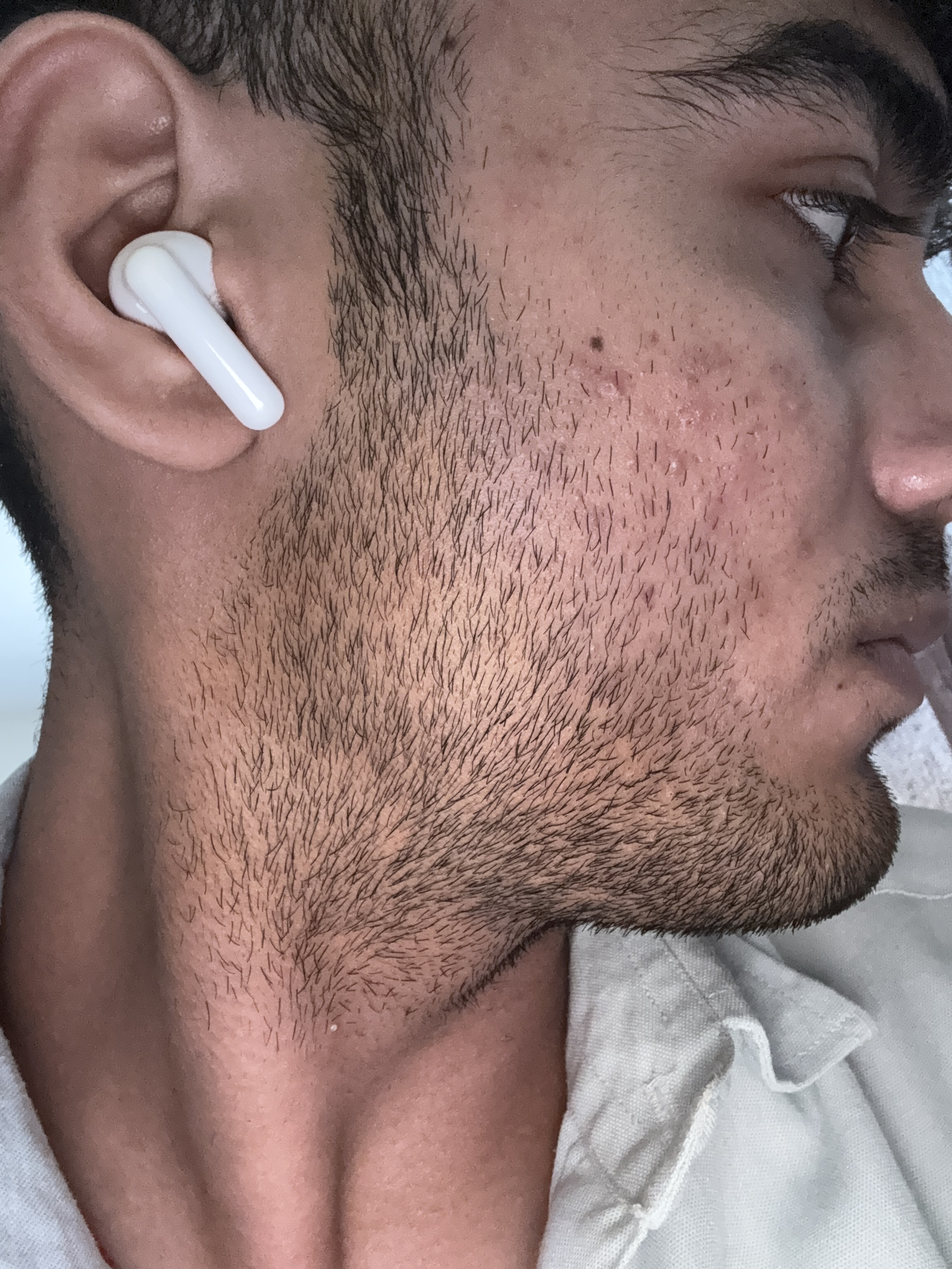papule: (681, 394, 711, 433), (595, 373, 628, 400), (664, 448, 686, 477), (786, 392, 806, 416)
